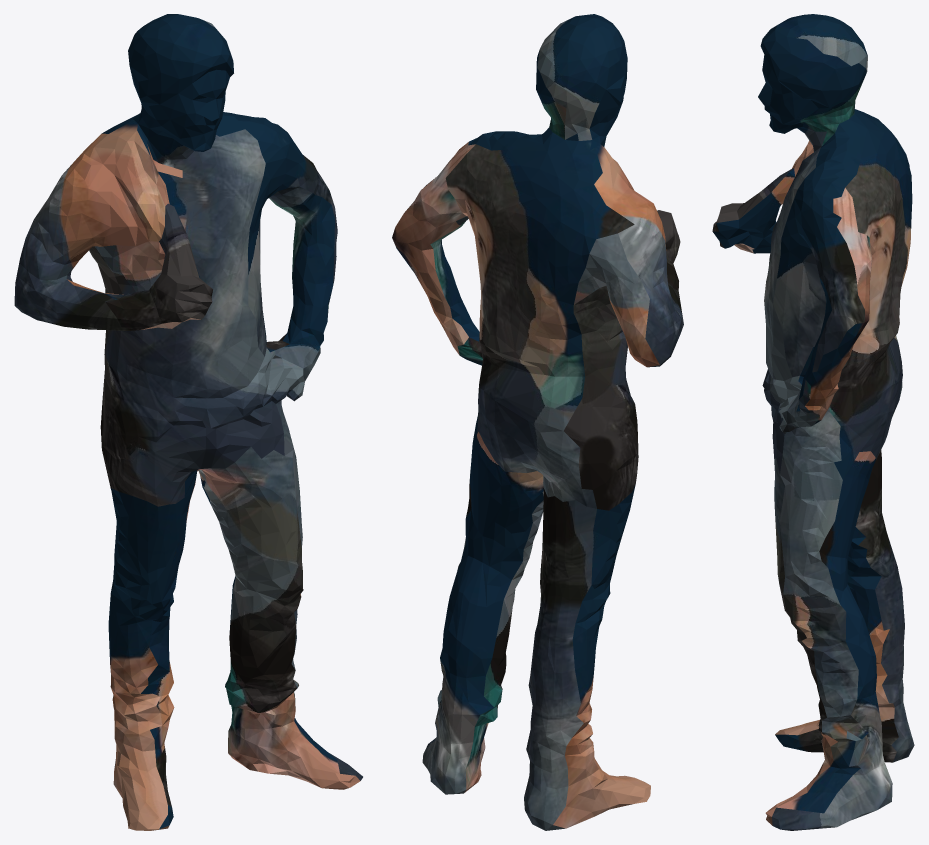
File: man_1.glb
3 renders of one model, left to right at view 1: azimuth 30°, elevation 25°; view 2: azimuth 150°, elevation 25°; view 3: azimuth 270°, elevation 25°, orthographic. The views are drawn at different scales.
Parts seen in each view (by area): view 1: man_1; view 2: man_1; view 3: man_1.
Part boxes in pixels (box(x1,y1,x2,y2)): man_1: box(14, 14, 362, 830); man_1: box(392, 14, 683, 830); man_1: box(712, 14, 914, 830).
Bounding box in the file's own units: 0.7065 × 1.8 × 0.4435.
1 material, 1 textured.
